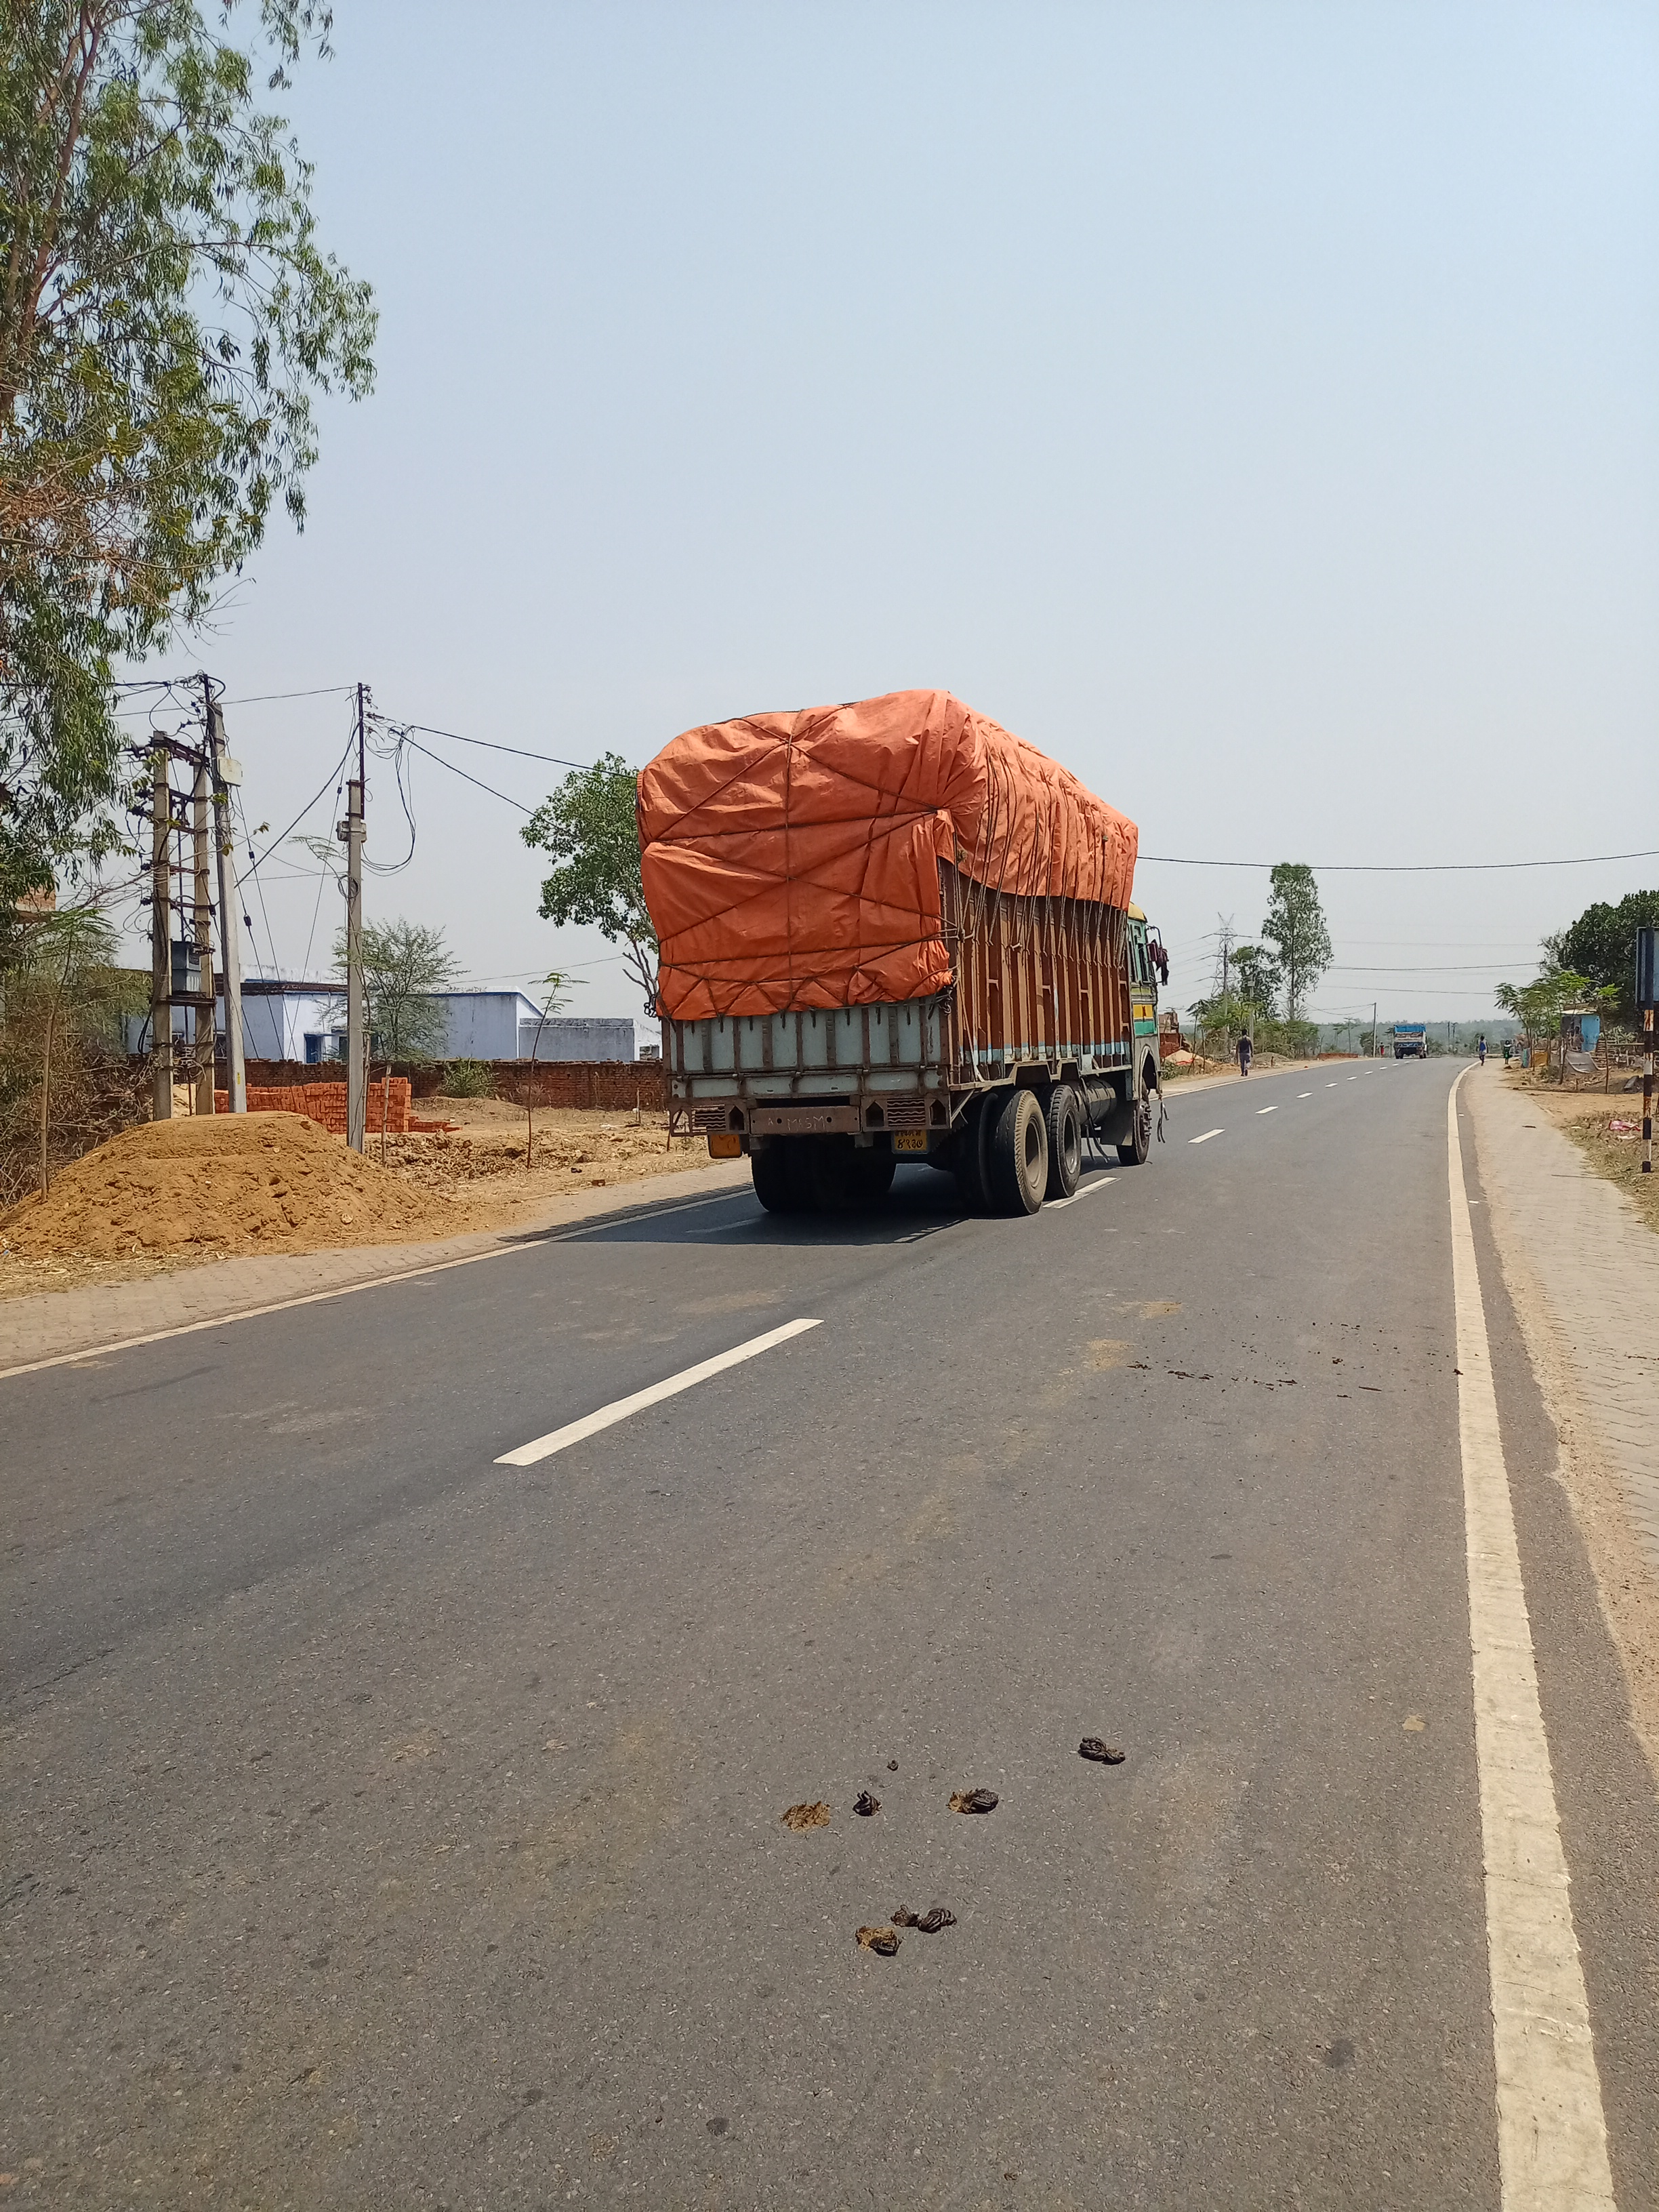truck: (631, 683, 1173, 1219), (1392, 1022, 1427, 1059)
